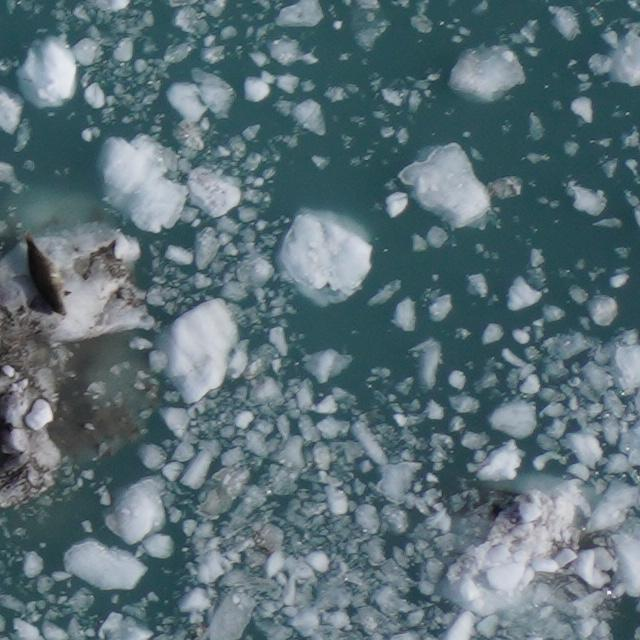seal: (8, 225, 81, 322)
